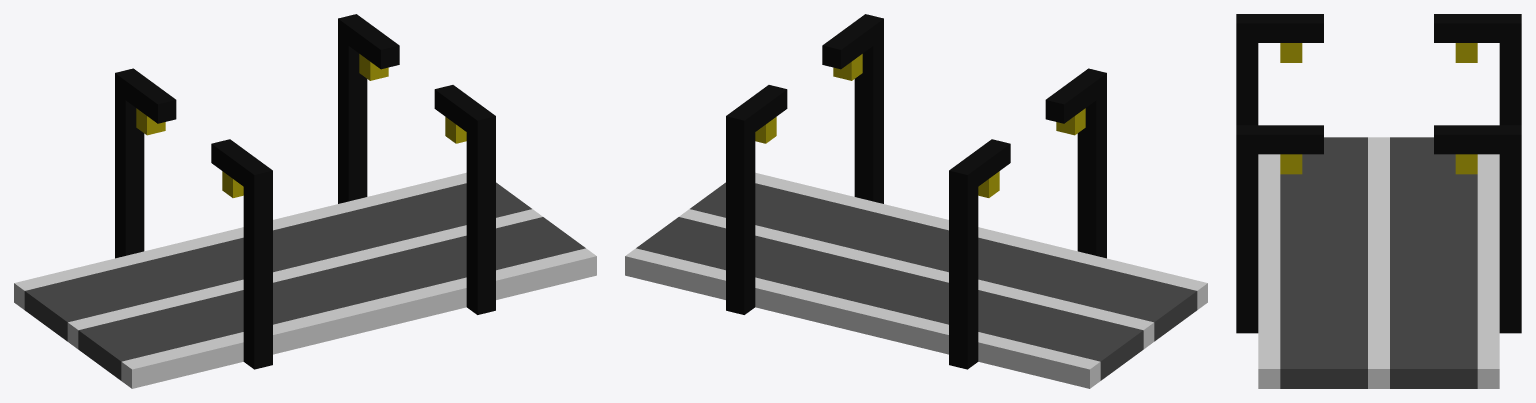
File: straßeLicht.obj
3 renders of one model, left to right at view 1: azimuth 30°, elevation 25°; view 2: azimuth 150°, elevation 25°; view 3: azimuth 270°, elevation 25°, orthographic. The views are drawn at different scales.
Bounding box in the file's own units: 5 × 2 × 2.6.
1 material, 1 textured.
